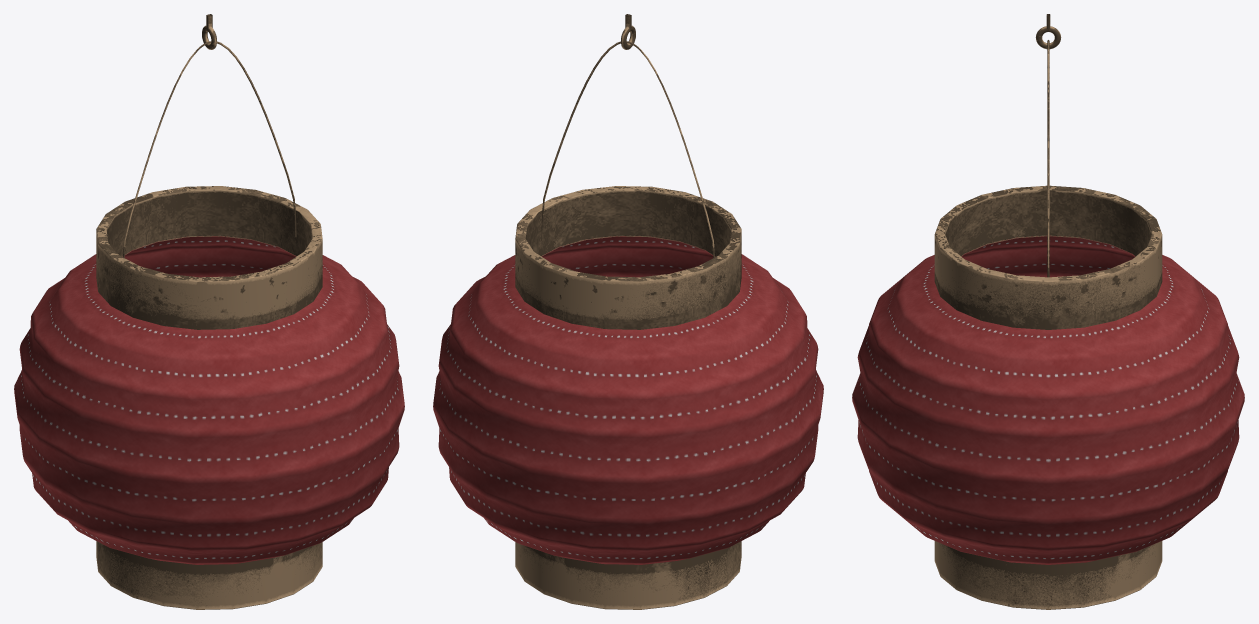
3 renders of one model, left to right at view 1: azimuth 30°, elevation 25°; view 2: azimuth 150°, elevation 25°; view 3: azimuth 270°, elevation 25°, orthographic.
Parts seen in each view (by area): view 1: LIGHt; view 2: LIGHt; view 3: LIGHt.
Boxes of the visible parts, x1,y1,x2,y2 form: LIGHt: [14, 14, 404, 609]; LIGHt: [433, 14, 823, 609]; LIGHt: [852, 14, 1244, 609].
Bounding box in the file's own units: 0.378 × 0.581 × 0.378.
1 material, 1 textured.
